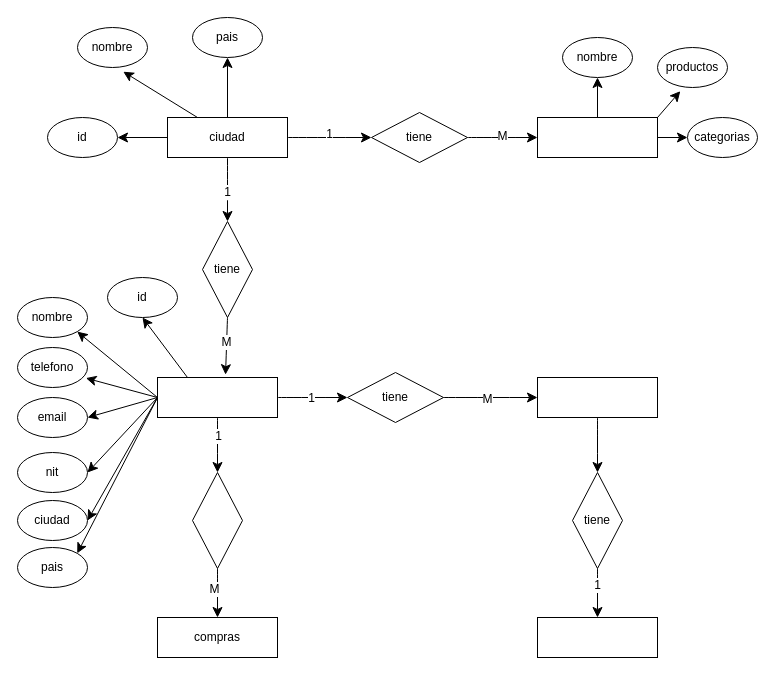
Image size: 775x675. Some labels were removed from this diagram. Here are the shapes that lost their labels. From the top down, the centre of each, then its label:
point 597,137: bodega
point 217,397: proveedor
point 597,397: producto
point 217,520: hace
point 597,637: categoria
